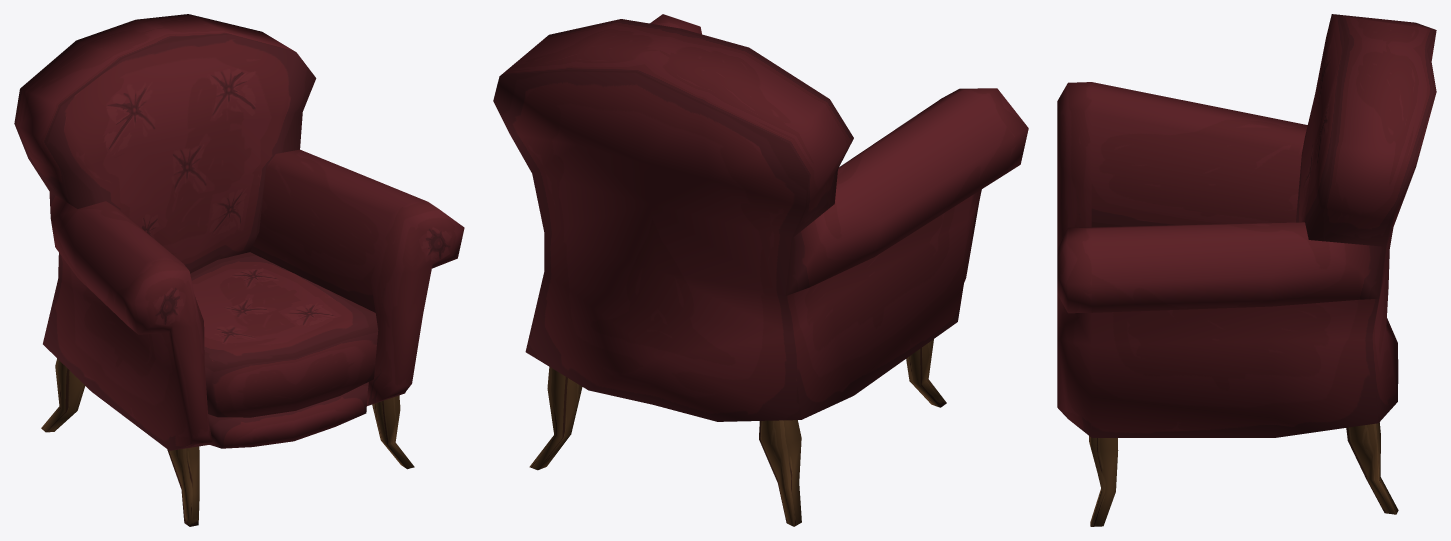
File: SM_PROP_armchair_interior_02.fbx
3 views of the same model, side by side, from view 1: azimuth 30°, elevation 25°; view 2: azimuth 150°, elevation 25°; view 3: azimuth 270°, elevation 25° (orthographic). The views are drawn at different scales.
Visible parts, largest first — view 1: SM_PROP_armchair_interior_02; view 2: SM_PROP_armchair_interior_02; view 3: SM_PROP_armchair_interior_02.
Part boxes in pixels (left/top/right/bottom): SM_PROP_armchair_interior_02: left=14, top=14, right=464, bottom=526; SM_PROP_armchair_interior_02: left=493, top=14, right=1028, bottom=526; SM_PROP_armchair_interior_02: left=1057, top=14, right=1436, bottom=526.
Size of what is drawn, in the model's own units: 105 by 114 by 93.52.
